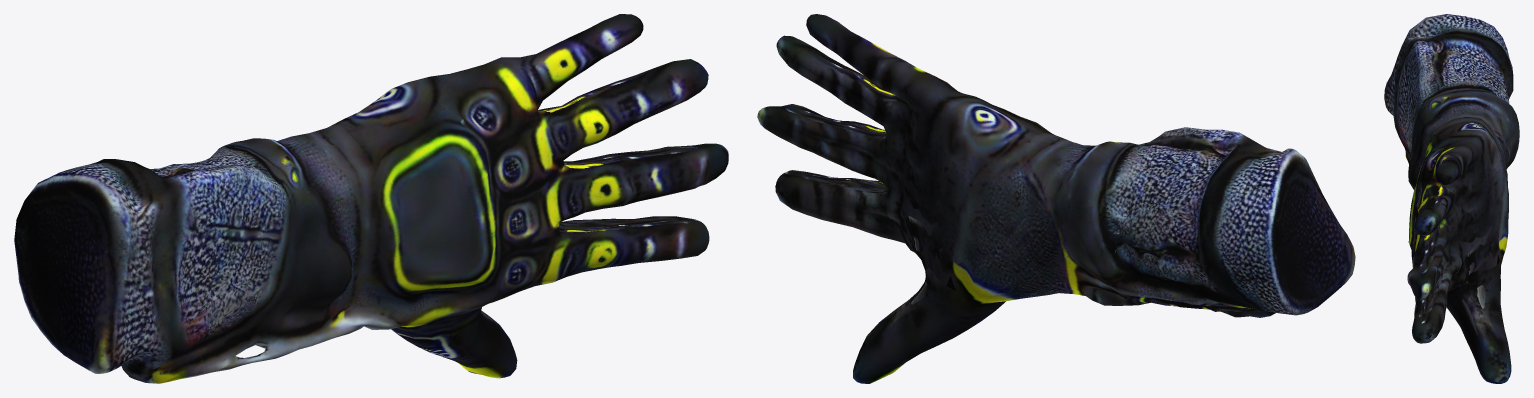
Rendered from glove1.glb.
3 renders of one model, left to right at view 1: azimuth 30°, elevation 25°; view 2: azimuth 150°, elevation 25°; view 3: azimuth 270°, elevation 25°, orthographic. The views are drawn at different scales.
Visible parts, largest first — view 1: mesh; view 2: mesh; view 3: mesh.
Boxes of the visible parts, left/top/right/bottom form: mesh: left=14, top=14, right=728, bottom=383; mesh: left=757, top=14, right=1355, bottom=383; mesh: left=1384, top=14, right=1519, bottom=383.
Bounding box in the file's own units: 1.17 × 0.6246 × 0.3124.
Materials: 1 (1 with a texture image).
